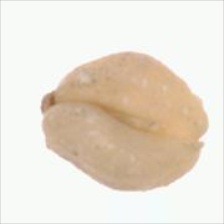L1: (39, 83, 67, 132), (188, 111, 210, 168)
L2: (41, 51, 211, 192)
